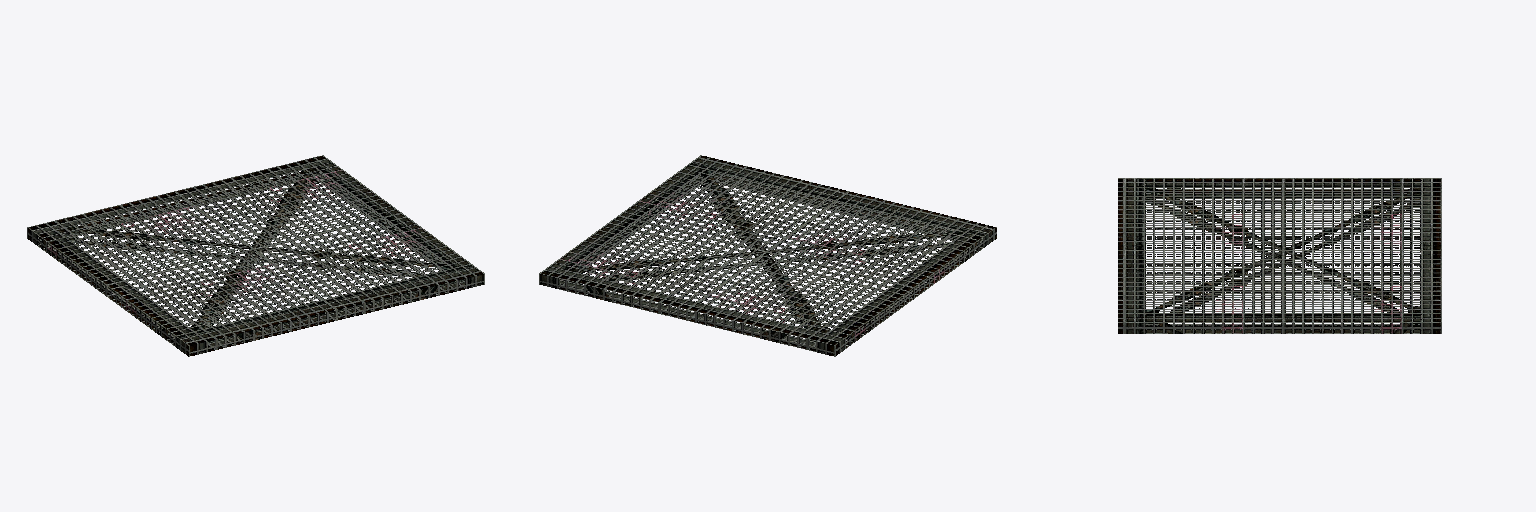
3 views of the same model, side by side, from view 1: azimuth 30°, elevation 25°; view 2: azimuth 150°, elevation 25°; view 3: azimuth 270°, elevation 25° (orthographic).
Visible parts, largest first — view 1: 3; view 2: 3; view 3: 3.
Boxes of the visible parts, <box> form: 3: <box>27,155,484,356</box>; 3: <box>539,155,996,356</box>; 3: <box>1118,178,1441,333</box>.
Bounding box in the file's own units: 56 × 2 × 53.
Materials: 1 (1 with a texture image).